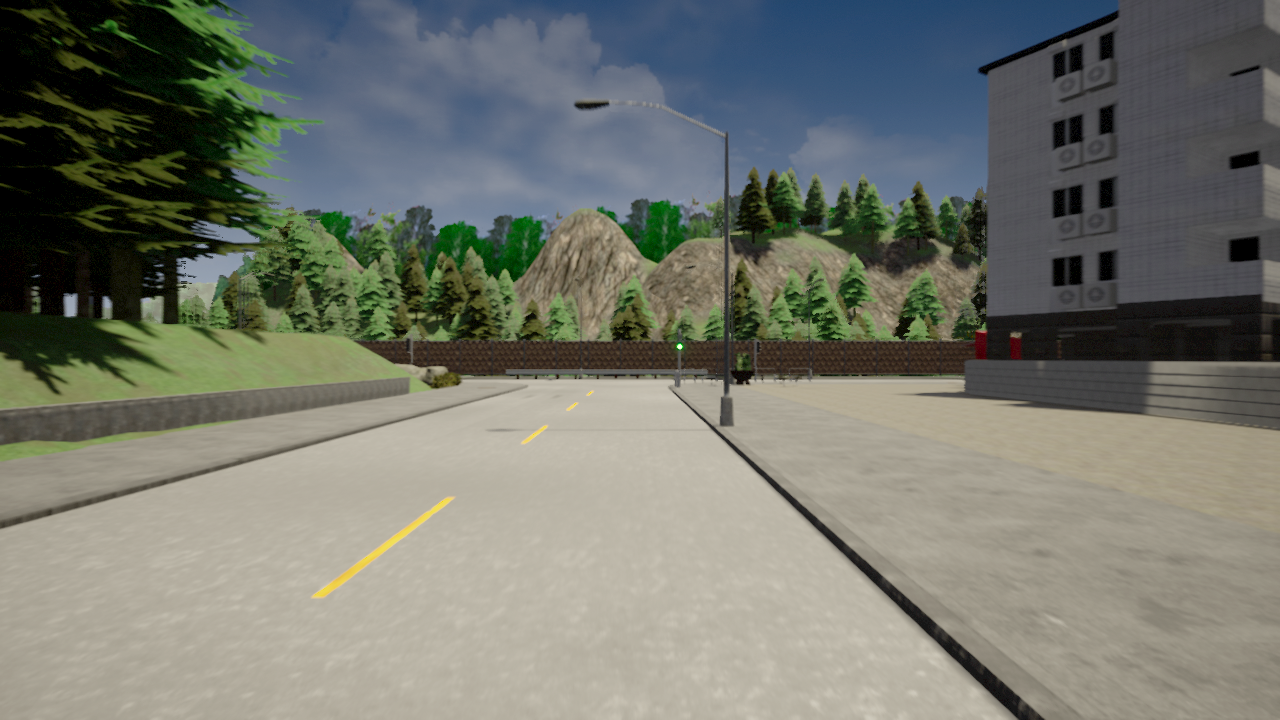green: (675, 333, 684, 350)
